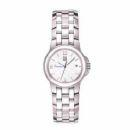watch: (42, 45, 90, 86)
